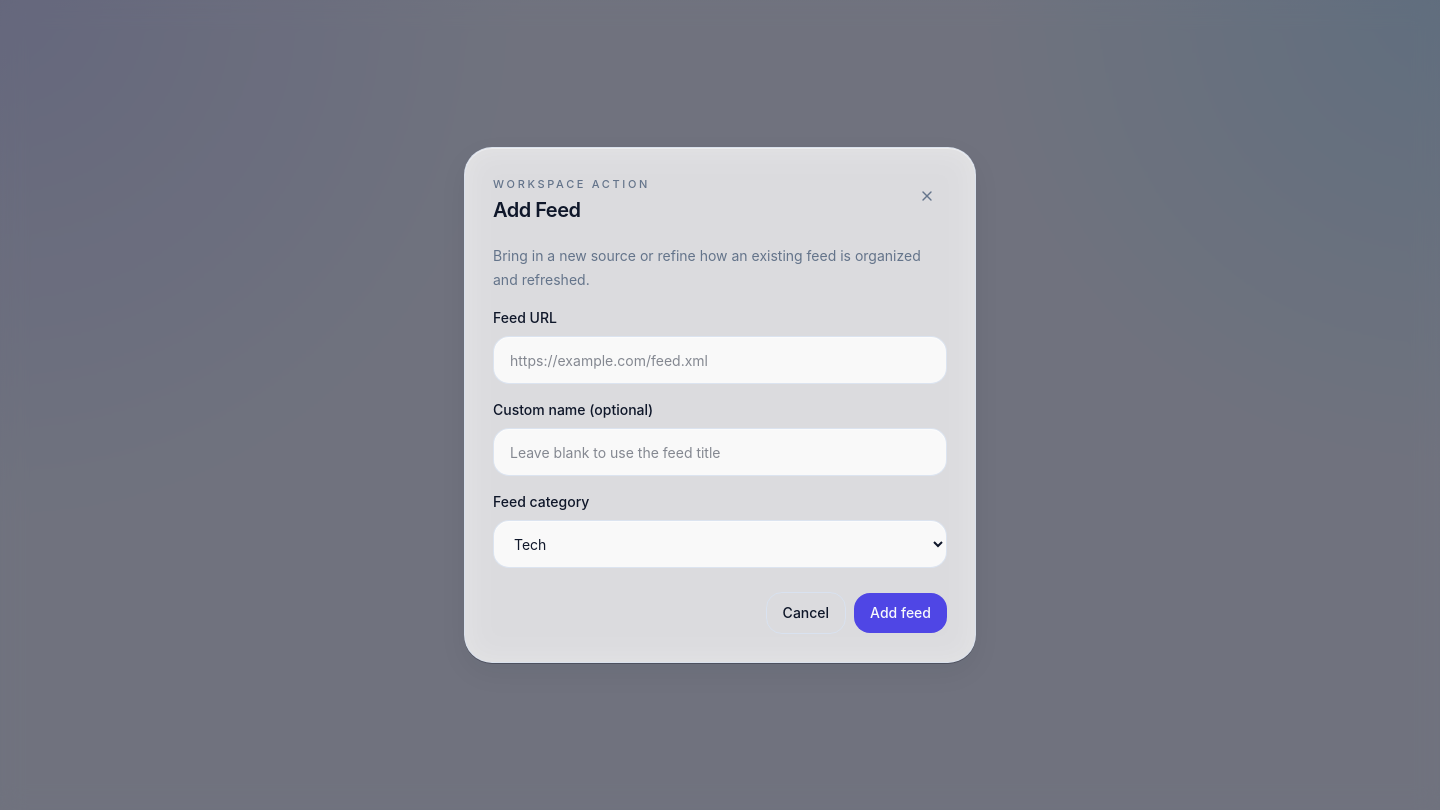
Scenario: FeedDialog - add mode › surfaces the server error on failure
This screenshot has width=1440, height=810.
In the field labelled "Feed URL": (720, 360) [493,336,947,384], type "https://broken.example/feed.xml"
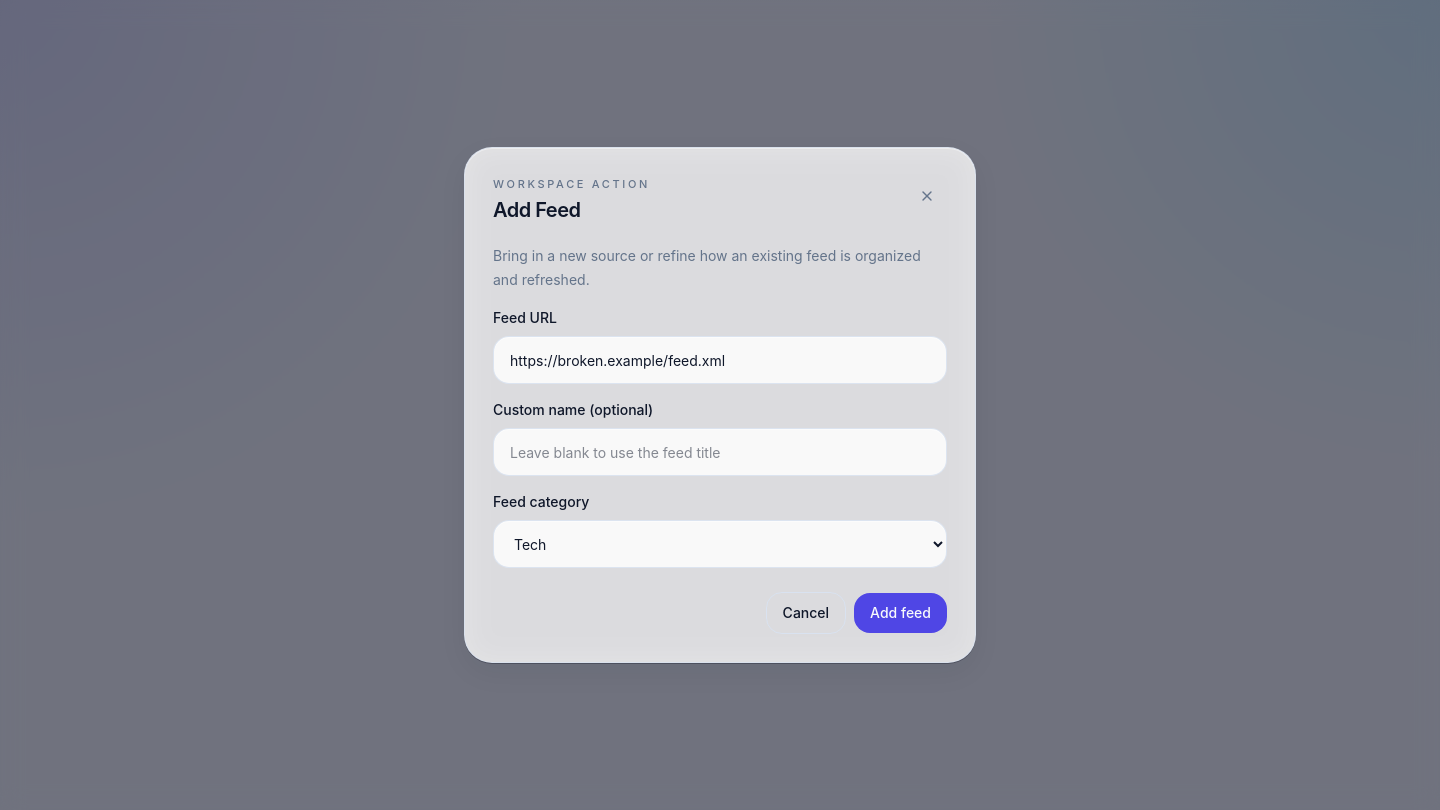
Select "Tech" in the dropdown labelled "Feed category": (720, 544) [493,520,947,568]
Click the button "Add feed": (901, 613) [854,593,947,633]
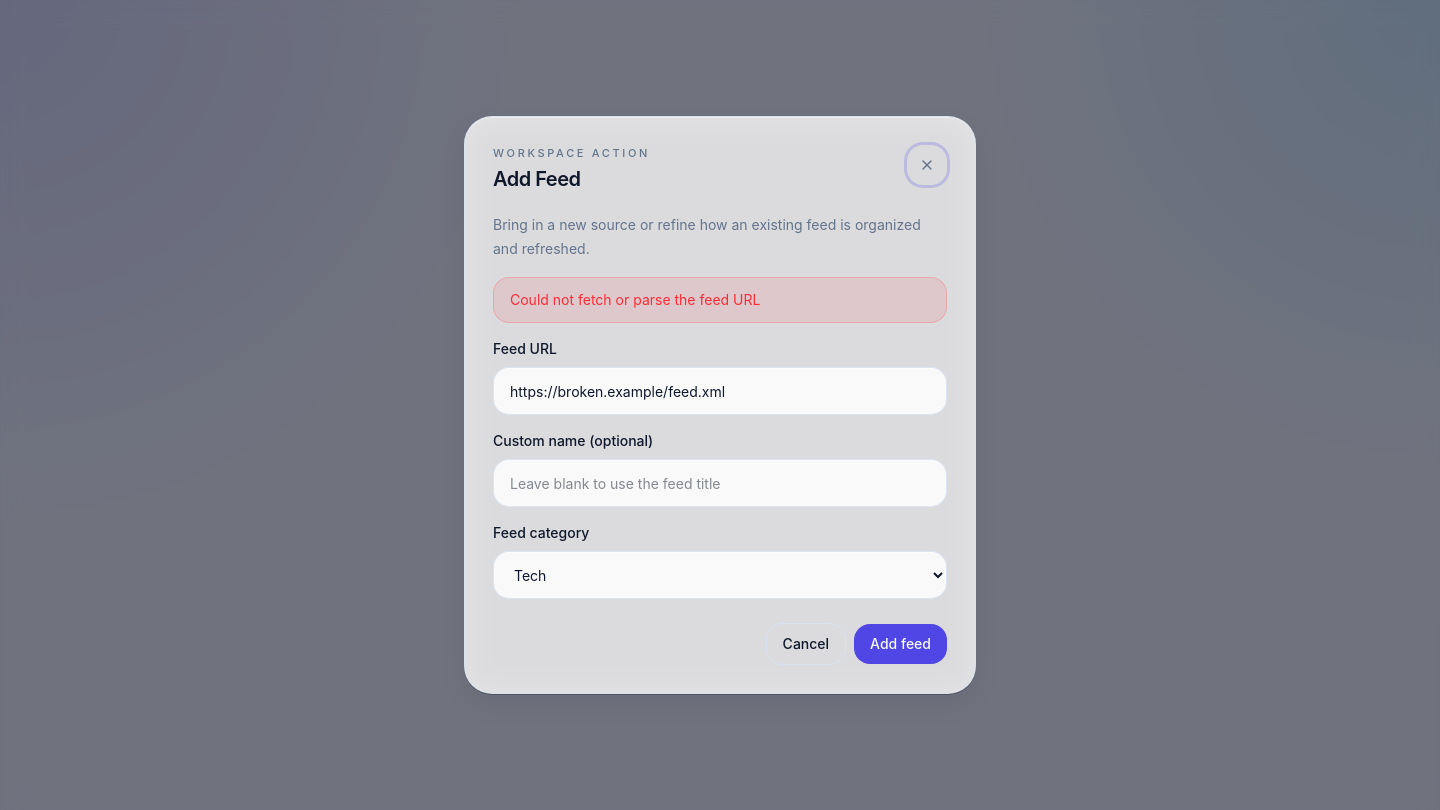
Check: the text "Could not fetch or parse the feed URL" is shown, box [493,277,947,323]
